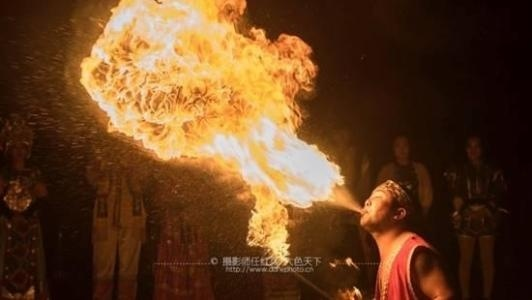fire: (75, 0, 343, 262)
